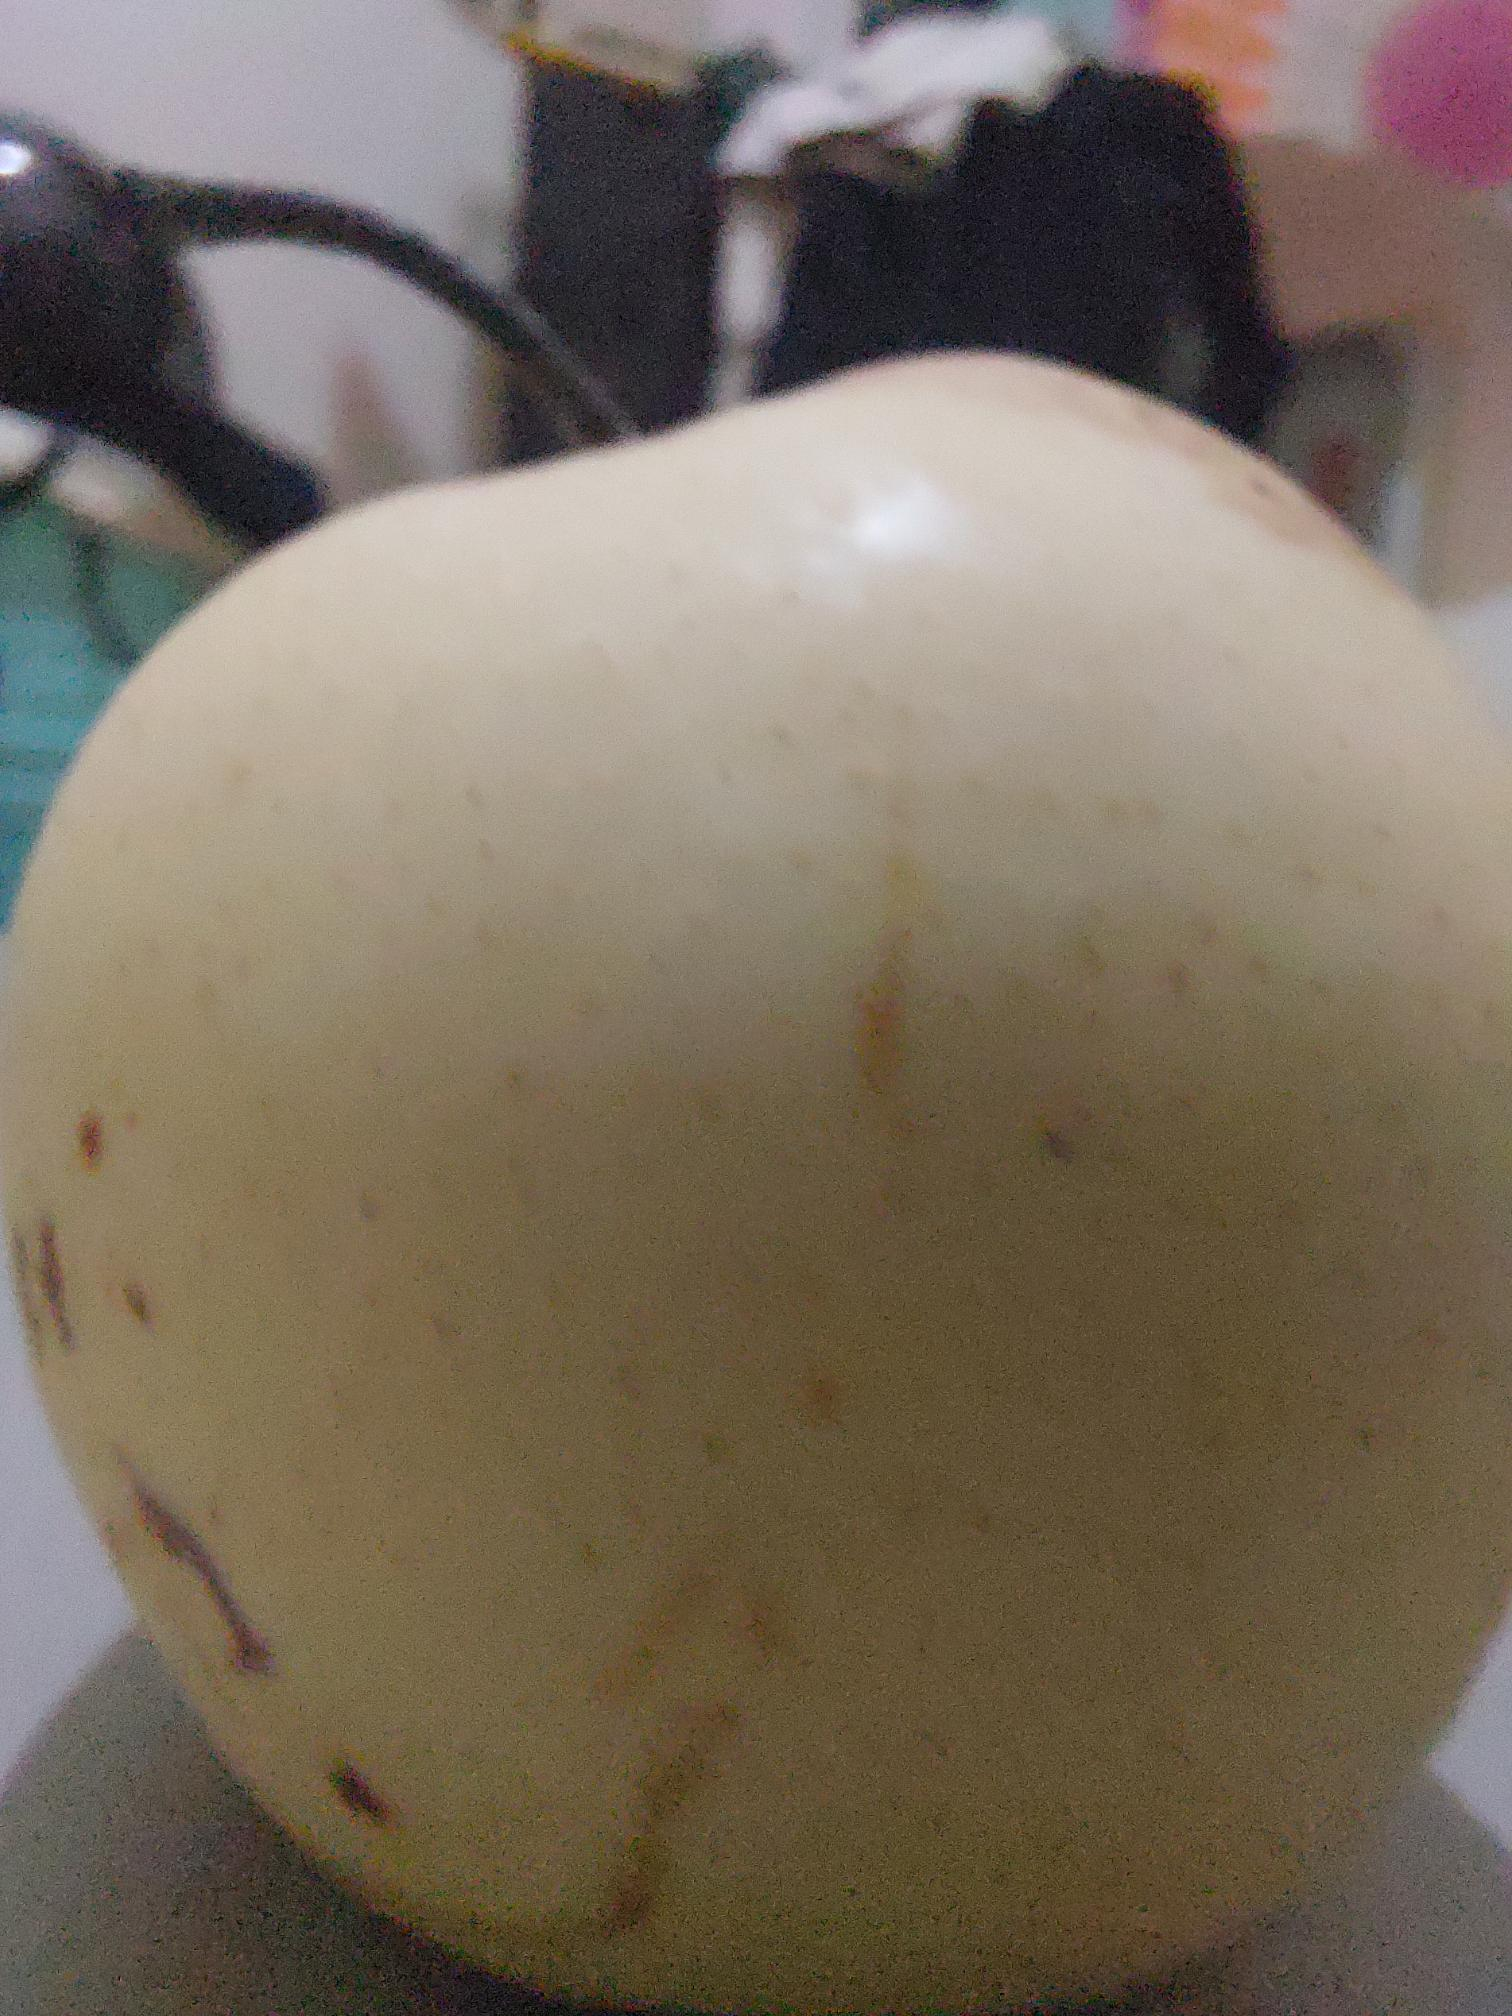Bad Pear: (0, 356, 1512, 2010)
